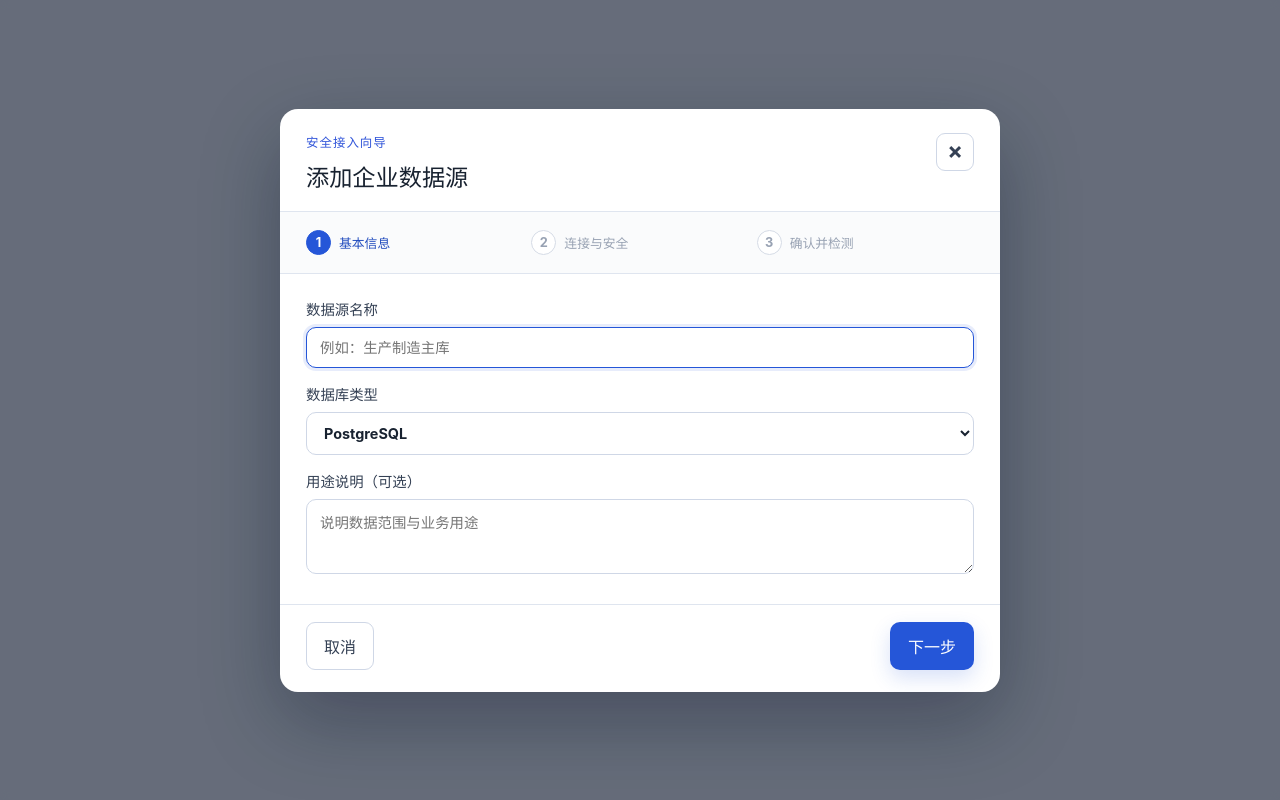
Test case: validates each step before moving forward
Click the button "下一步" at (932, 646), box [890,622,974,670]
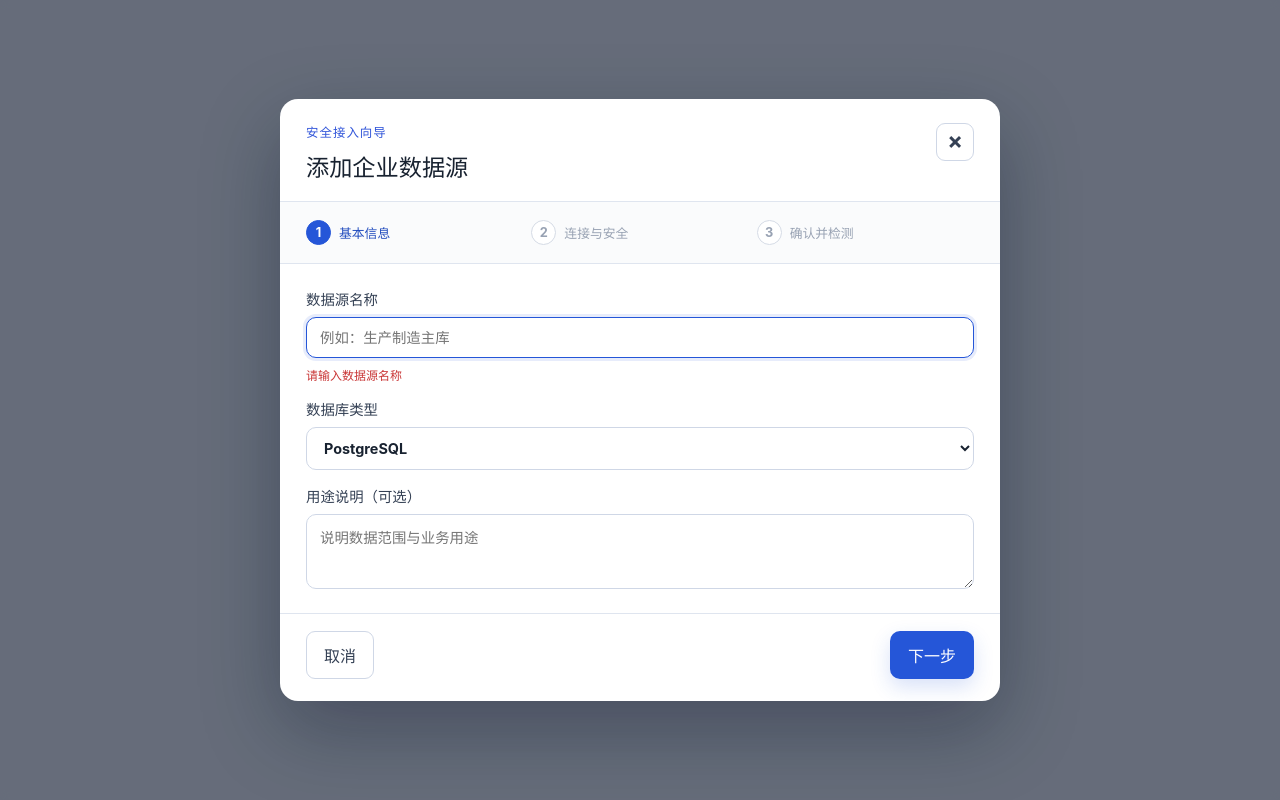
Expected: the heading "添加企业数据源" is shown, [306,149,468,183]
Expected: the text "请输入数据源名称" is shown, [306,368,402,383]
